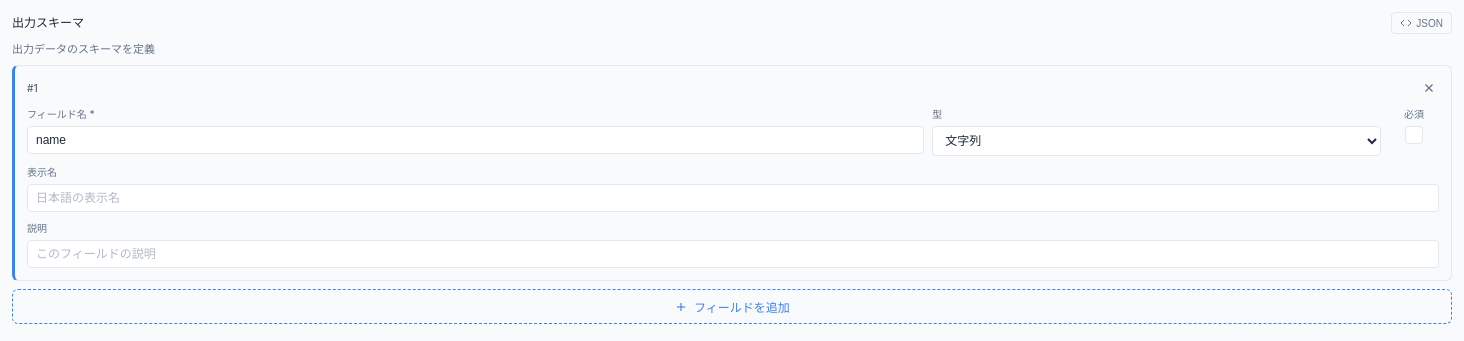
OutputSchemaWidget › removes field when remove button is clicked
What coordinates should you click on to do the following:
click the button with class "remove-button"
I would click on:
 (1429, 88)
Its box is x1=1419 y1=78 x2=1439 y2=98.
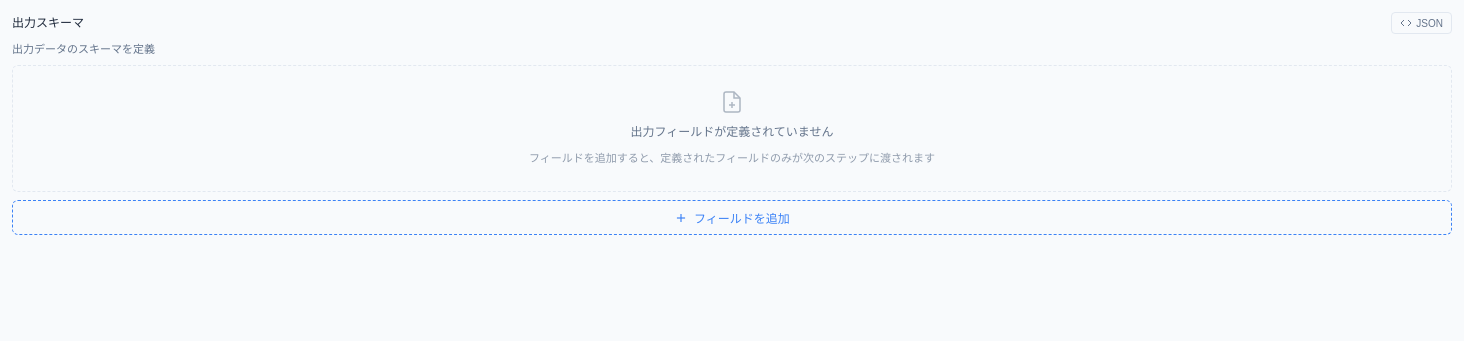
Result: the element with class "empty-state" is shown at x1=12 y1=65 x2=1452 y2=192
